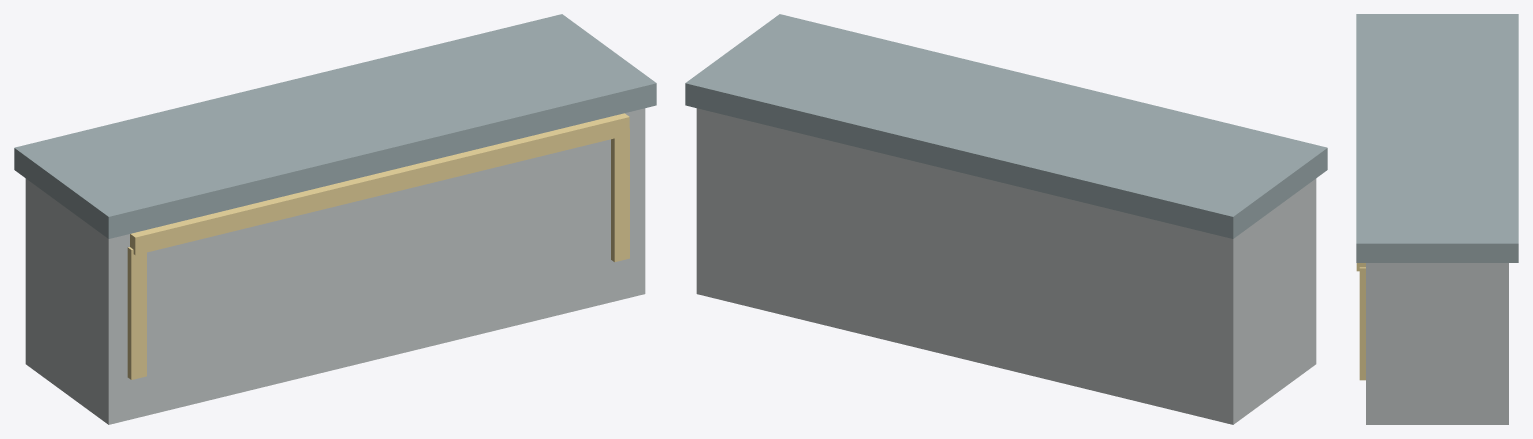
The model's file is DF_ART_ConcreteCover.glb.
3 renders of one model, left to right at view 1: azimuth 30°, elevation 25°; view 2: azimuth 150°, elevation 25°; view 3: azimuth 270°, elevation 25°, orthographic. The views are drawn at different scales.
Parts seen in each view (by area): view 1: precast_base_0, coping_1, safety_line_4, side_band_2, side_band_3; view 2: precast_base_0, coping_1; view 3: coping_1, precast_base_0, side_band_3.
Boxes of the visible parts, left/top/right/bottom form: precast_base_0: left=25, top=108, right=645, bottom=424; coping_1: left=14, top=14, right=656, bottom=238; safety_line_4: left=130, top=113, right=629, bottom=255; side_band_2: left=127, top=247, right=146, bottom=379; side_band_3: left=611, top=128, right=629, bottom=262; precast_base_0: left=696, top=108, right=1316, bottom=424; coping_1: left=685, top=14, right=1327, bottom=238; coping_1: left=1356, top=14, right=1518, bottom=262; precast_base_0: left=1366, top=263, right=1508, bottom=424; side_band_3: left=1359, top=267, right=1365, bottom=380.
Size of the model in its own units: 3.88 by 1.44 by 1.16.
